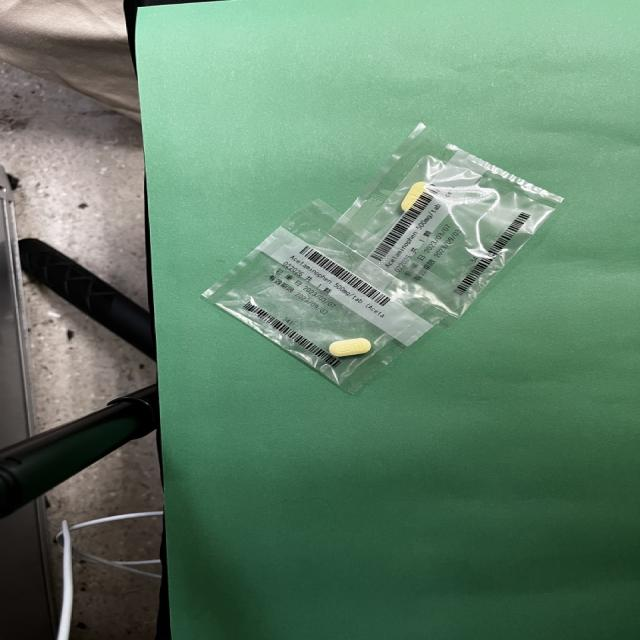Other Objects: (203, 123, 563, 392)
